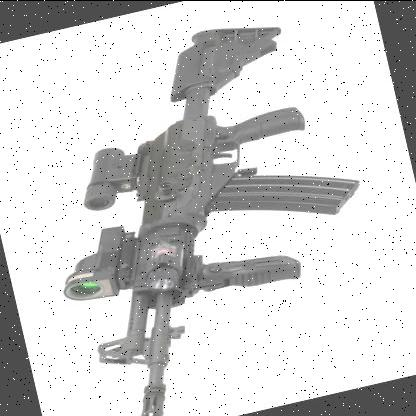rifle: (0, 9, 393, 416)
